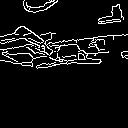cube: (55, 39, 81, 63)
